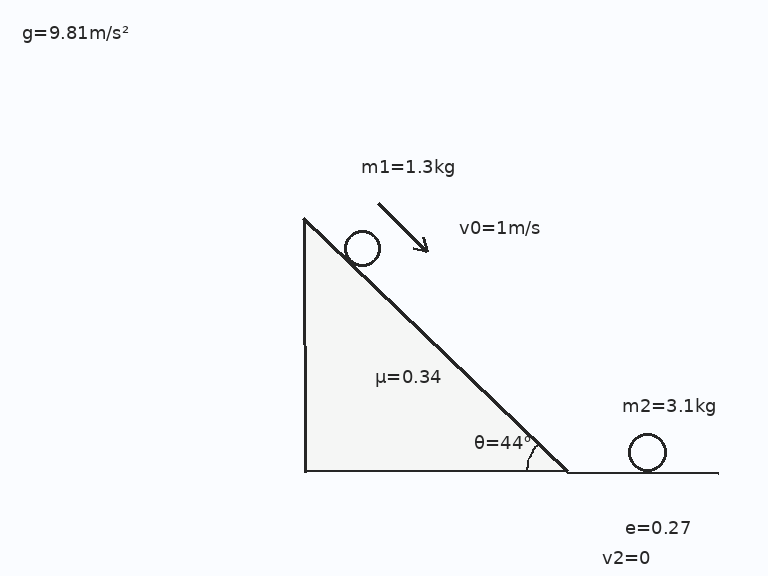ball: (626, 431, 668, 473), (342, 228, 382, 268)
ramp: (303, 216, 569, 473)
